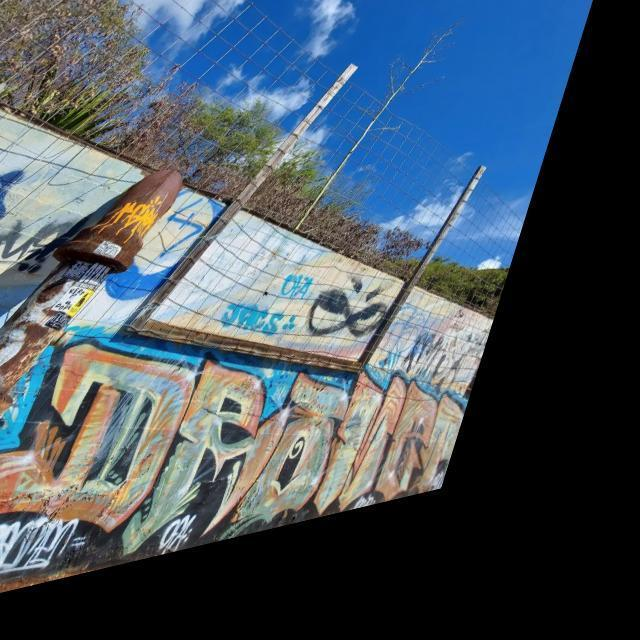-: (0, 230, 552, 610), (396, 310, 532, 436), (230, 288, 340, 378)
